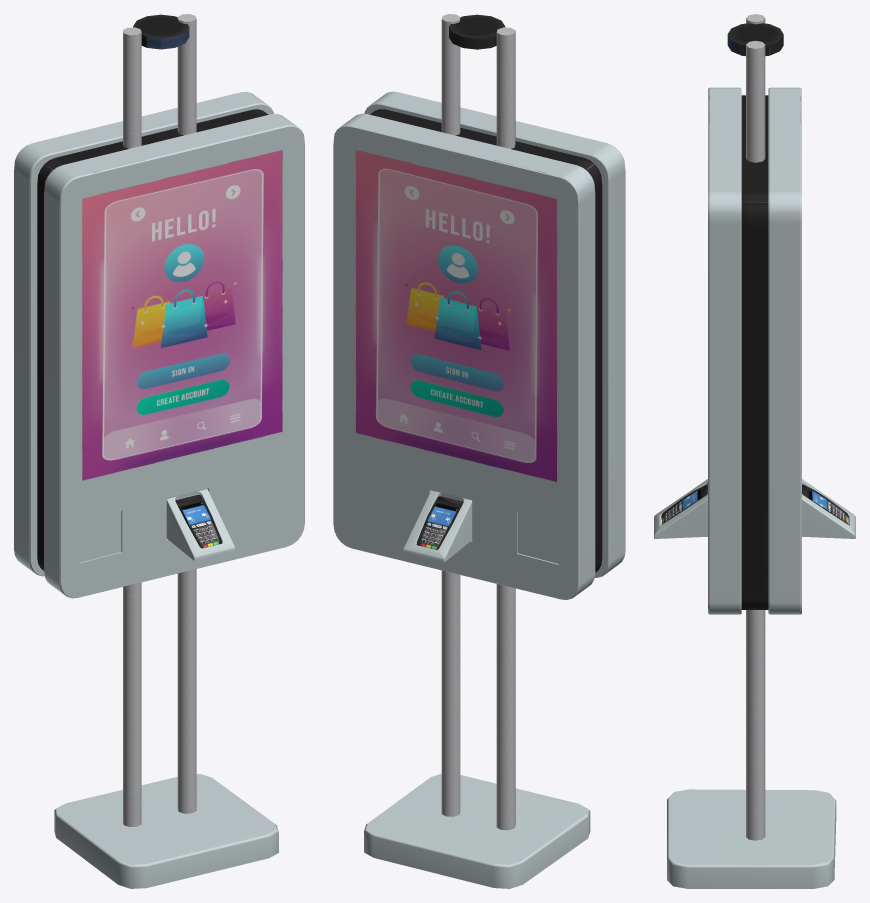
The model's file is Kiosk Machine.fbx.
The picture shows the model from 3 angles, left to right: view 1: azimuth 30°, elevation 25°; view 2: azimuth 150°, elevation 25°; view 3: azimuth 270°, elevation 25°; orthographic projection.
Parts seen in each view (by area): view 1: KioskMachine; view 2: KioskMachine; view 3: KioskMachine.
Boxes of the visible parts, x1=… form: KioskMachine: x1=14, y1=14, x2=304, y2=888; KioskMachine: x1=333, y1=14, x2=625, y2=888; KioskMachine: x1=654, y1=14, x2=855, y2=888.
Bounding box in the file's own units: 76.87 × 244 × 54.7.
1 material, 1 textured.
